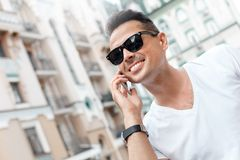talk: (109, 30, 158, 125)
